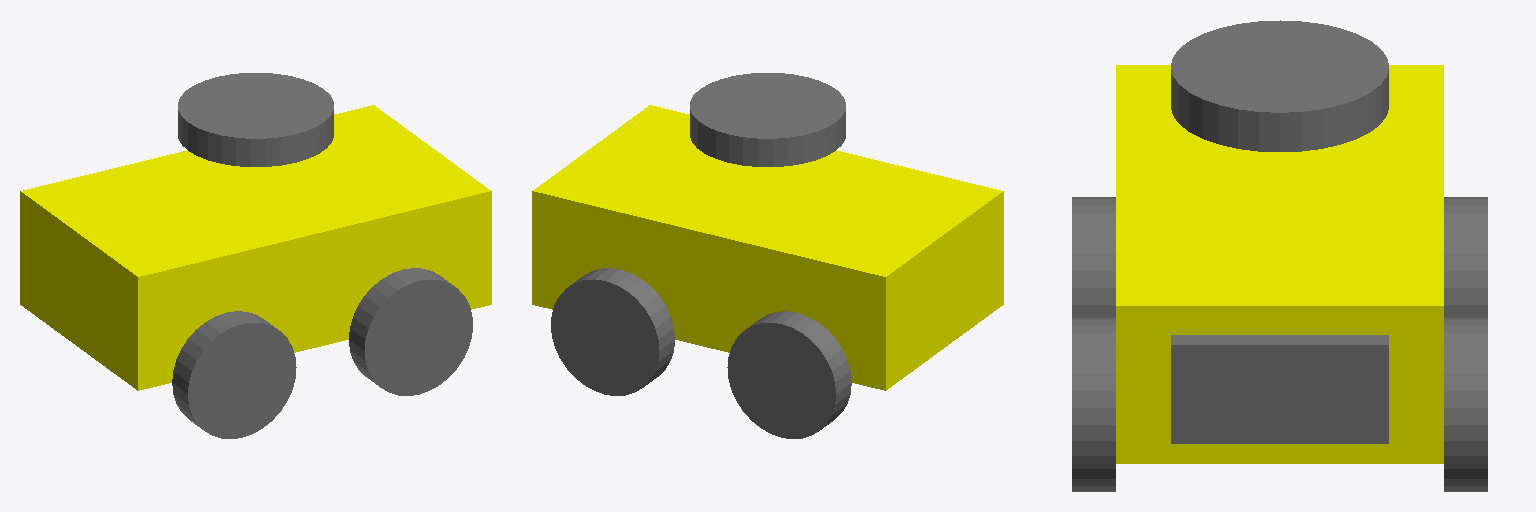
robot.urdf — my_robot:
<?xml version="1.0" ?>
<!-- =================================================================================== -->
<!-- |    This document was autogenerated by xacro from my_mecanum_robot.urdf.xacro    | -->
<!-- |    EDITING THIS FILE BY HAND IS NOT RECOMMENDED                                 | -->
<!-- =================================================================================== -->
<robot name="my_robot">
  <material name="blue">
    <color rgba="0 0 0.5 1"/>
  </material>
  <material name="grey">
    <color rgba="0.5 0.5 0.5 1"/>
  </material>
  <material name="orange">
    <color rgba="1.0 0.5 0 1"/>
  </material>
  <material name="yellow">
    <color rgba="1.0 1.0 0 1"/>
  </material>
  <link name="base_footprint"/>
  <!-- collision and inertia box close to floor for lateral movements -->
  <link name="base_link">
    <visual>
      <geometry>
        <box size="0.26 0.15 0.08"/>
      </geometry>
      <origin rpy="0 0 0" xyz="0 0 0.04"/>
      <material name="yellow"/>
    </visual>
    <collision>
      <geometry>
        <box size="0.26 0.15 0.08"/>
      </geometry>
      <origin rpy="0 0 0" xyz="0 0 0.0"/>
    </collision>
    <inertial>
      <origin rpy="0 0 0" xyz="0 0 0.0"/>
      <mass value="4.0"/>
      <inertia ixx="0.09866666666666668" ixy="0" ixz="0" iyy="0.12013333333333334" iyz="0" izz="0.03853333333333333"/>
    </inertial>
  </link>
  <link name="lower_right_wheel_link">
    <visual>
      <geometry>
        <cylinder length="0.02" radius="0.04"/>
        <!--<mesh filename="package://my_robot_description/meshes/left_tire.stl" scale="0.001 0.001 0.001"/>-->
      </geometry>
      <origin rpy="1.5707963267948966 0 0" xyz="0 0 0"/>
      <material name="grey"/>
    </visual>
    <collision>
      <geometry>
        <cylinder length="0.02" radius="0.04"/>
      </geometry>
      <origin rpy="1.5707963267948966 0 0" xyz="0 0 0"/>
    </collision>
    <inertial>
      <origin rpy="1.5707963267948966 0 0" xyz="0 0 0"/>
      <mass value="0.2"/>
      <inertia ixx="0.00034666666666666667" ixy="0" ixz="0" iyy="0.00034666666666666667" iyz="0" izz="0.00064"/>
    </inertial>
  </link>
  <link name="lower_left_wheel_link">
    <visual>
      <geometry>
        <cylinder length="0.02" radius="0.04"/>
        <!--<mesh filename="package://my_robot_description/meshes/left_tire.stl" scale="0.001 0.001 0.001"/>-->
      </geometry>
      <origin rpy="1.5707963267948966 0 0" xyz="0 0 0"/>
      <material name="grey"/>
    </visual>
    <collision>
      <geometry>
        <cylinder length="0.02" radius="0.04"/>
      </geometry>
      <origin rpy="1.5707963267948966 0 0" xyz="0 0 0"/>
    </collision>
    <inertial>
      <origin rpy="1.5707963267948966 0 0" xyz="0 0 0"/>
      <mass value="0.2"/>
      <inertia ixx="0.00034666666666666667" ixy="0" ixz="0" iyy="0.00034666666666666667" iyz="0" izz="0.00064"/>
    </inertial>
  </link>
  <link name="upper_right_wheel_link">
    <visual>
      <geometry>
        <cylinder length="0.02" radius="0.04"/>
        <!--<mesh filename="package://my_robot_description/meshes/left_tire.stl" scale="0.001 0.001 0.001"/>-->
      </geometry>
      <origin rpy="1.5707963267948966 0 0" xyz="0 0 0"/>
      <material name="grey"/>
    </visual>
    <collision>
      <geometry>
        <cylinder length="0.02" radius="0.04"/>
      </geometry>
      <origin rpy="1.5707963267948966 0 0" xyz="0 0 0"/>
    </collision>
    <inertial>
      <origin rpy="1.5707963267948966 0 0" xyz="0 0 0"/>
      <mass value="0.2"/>
      <inertia ixx="0.00034666666666666667" ixy="0" ixz="0" iyy="0.00034666666666666667" iyz="0" izz="0.00064"/>
    </inertial>
  </link>
  <link name="upper_left_wheel_link">
    <visual>
      <geometry>
        <cylinder length="0.02" radius="0.04"/>
        <!--<mesh filename="package://my_robot_description/meshes/left_tire.stl" scale="0.001 0.001 0.001"/>-->
      </geometry>
      <origin rpy="1.5707963267948966 0 0" xyz="0 0 0"/>
      <material name="grey"/>
    </visual>
    <collision>
      <geometry>
        <cylinder length="0.02" radius="0.04"/>
      </geometry>
      <origin rpy="1.5707963267948966 0 0" xyz="0 0 0"/>
    </collision>
    <inertial>
      <origin rpy="1.5707963267948966 0 0" xyz="0 0 0"/>
      <mass value="0.2"/>
      <inertia ixx="0.00034666666666666667" ixy="0" ixz="0" iyy="0.00034666666666666667" iyz="0" izz="0.00064"/>
    </inertial>
  </link>
  <joint name="base_joint" type="fixed">
    <parent link="base_footprint"/>
    <child link="base_link"/>
    <origin rpy="0 0 0" xyz="0 0 0.04"/>
  </joint>
  <joint name="lower_right_wheel_joint" type="continuous">
    <parent link="base_link"/>
    <child link="lower_right_wheel_link"/>
    <origin rpy="0 0 0" xyz="-0.065 -0.08499999999999999 0"/>
    <axis xyz="0 1 0"/>
  </joint>
  <joint name="lower_left_wheel_joint" type="continuous">
    <parent link="base_link"/>
    <child link="lower_left_wheel_link"/>
    <origin rpy="0 0 0" xyz="-0.065 0.08499999999999999 0"/>
    <axis xyz="0 1 0"/>
  </joint>
  <joint name="upper_right_wheel_joint" type="continuous">
    <parent link="base_link"/>
    <child link="upper_right_wheel_link"/>
    <origin rpy="0 0 0" xyz="0.065 -0.08499999999999999 0"/>
    <axis xyz="0 1 0"/>
  </joint>
  <joint name="upper_left_wheel_joint" type="continuous">
    <parent link="base_link"/>
    <child link="upper_left_wheel_link"/>
    <origin rpy="0 0 0" xyz="0.065 0.08499999999999999 0"/>
    <axis xyz="0 1 0"/>
  </joint>
  <!-- low friction with base and high friction with wheels -->
  <gazebo reference="base_link">
    <material>Gazebo/Yellow</material>
    <mu1>0.005</mu1>
    <mu2>0.005</mu2>
  </gazebo>
  <gazebo reference="lower_right_wheel_link">
    <material>Gazebo/Grey</material>
    <mu1>0.4</mu1>
    <mu2>0.2</mu2>
    <!--<kp>1000</kp>
        <ki>100</ki>
        <kd>1</kd>
        <minDepth>0.001</minDepth>
        <maxVel>0.5</maxVel>
        <fdir1>1 0 0</fdir1>-->
  </gazebo>
  <gazebo reference="lower_left_wheel_link">
    <material>Gazebo/Grey</material>
    <mu1>0.4</mu1>
    <mu2>0.2</mu2>
    <!--<kp>1000</kp>
        <ki>100</ki>
        <kd>1</kd>
        <minDepth>0.001</minDepth>
        <maxVel>0.5</maxVel>
        <fdir1>1 0 0</fdir1>-->
  </gazebo>
  <gazebo reference="upper_right_wheel_link">
    <material>Gazebo/Grey</material>
    <mu1>0.4</mu1>
    <mu2>0.2</mu2>
    <!--<kp>1000</kp>
        <ki>100</ki>
        <kd>1</kd>
        <minDepth>0.001</minDepth>
        <maxVel>0.5</maxVel>
        <fdir1>1 0 0</fdir1>-->
  </gazebo>
  <gazebo reference="upper_left_wheel_link">
    <material>Gazebo/Grey</material>
    <mu1>0.4</mu1>
    <mu2>0.2</mu2>
    <!--<kp>1000</kp>
        <ki>100</ki>
        <kd>1</kd>
        <minDepth>0.001</minDepth>
        <maxVel>0.5</maxVel>
        <fdir1>1 0 0</fdir1>-->
  </gazebo>
  <gazebo>
    <plugin filename="libgazebo_ros_planar_move.so" name="mecanum_controller">
      <command_topic>cmd_vel</command_topic>
      <odometry_topic>odom</odometry_topic>
      <odometry_frame>odom</odometry_frame>
      <odometry_rate>20.0</odometry_rate>
      <robot_base_frame>base_footprint</robot_base_frame>
      <publish_odom>true</publish_odom>
      <publish_odom_tf>true</publish_odom_tf>
      <wheel_radius>0.04</wheel_radius>
      <base_length>0.65</base_length>
      <base_width>0.65</base_width>
      <publish_wheel_tf>true</publish_wheel_tf>
      <front_left_joint>upper_left_wheel_joint</front_left_joint>
      <front_right_joint>upper_right_wheel_joint</front_right_joint>
      <rear_left_joint>lower_left_wheel_joint</rear_left_joint>
      <rear_right_joint>lower_right_wheel_joint</rear_right_joint>
      <wheel_max_speed> 20.0 </wheel_max_speed>
      <wheel_acceleration> 10.0</wheel_acceleration>
      <joint_config>1 1 1 1</joint_config>
    </plugin>
  </gazebo>
  <link name="camera_link">
    <visual>
      <geometry>
        <box size="0.01 0.1 0.05"/>
      </geometry>
      <material name="grey"/>
    </visual>
    <collision>
      <geometry>
        <box size="0.01 0.1 0.05"/>
      </geometry>
    </collision>
    <inertial>
      <origin rpy="0 0 0" xyz="0 0 0"/>
      <mass value="0.1"/>
      <inertia ixx="2.166666666666667e-05" ixy="0" ixz="0" iyy="8.416666666666668e-05" iyz="0" izz="0.00010416666666666669"/>
    </inertial>
  </link>
  <joint name="base_camera_joint" type="fixed">
    <parent link="base_link"/>
    <child link="camera_link"/>
    <origin rpy="0 0 0" xyz="0.135 0 0.04"/>
  </joint>
  <link name="camera_link_optical">
    </link>
  <joint name="camera_optical_joint" type="fixed">
    <!-- these values have to be these values otherwise the gazebo camera
            image won't be aligned properly with the frame it is supposedly
            originating from -->
    <origin rpy="-1.5707963267948966 0 -1.5707963267948966" xyz="0 0 0"/>
    <parent link="camera_link"/>
    <child link="camera_link_optical"/>
  </joint>
  <gazebo reference="camera_link">
    <material>Gazebo/Red</material>
    <sensor name="camera_sensor" type="camera">
      <pose>0 0 0 0 0 0</pose>
      <visualize>false</visualize>
      <update_rate>10.0</update_rate>
      <plugin filename="libgazebo_ros_camera.so" name="camera_controller">
        <frame_name>camera_link_optical</frame_name>
      </plugin>
    </sensor>
  </gazebo>
  <link name="base_scan">
    <visual>
      <geometry>
        <cylinder length="0.02" radius="0.05"/>
      </geometry>
      <material name="grey"/>
    </visual>
    <collision>
      <geometry>
        <cylinder length="0.02" radius="0.05"/>
      </geometry>
    </collision>
    <inertial>
      <origin rpy="0 0 0" xyz="0 0 0"/>
      <mass value="0.1"/>
      <inertia ixx="0.00026333333333333336" ixy="0" ixz="0" iyy="0.00026333333333333336" iyz="0" izz="0.0005000000000000001"/>
    </inertial>
  </link>
  <joint name="base_scan_joint" type="fixed">
    <parent link="base_link"/>
    <child link="base_scan"/>
    <origin rpy="0 0 3.14" xyz="0 0 0.13"/>
  </joint>
  <gazebo reference="base_scan">
    <sensor name="lidar" type="ray">
      <pose>0.215 0 0.215 0 0 0</pose>
      <always_on>true</always_on>
      <visualize>false</visualize>
      <update_rate>5</update_rate>
      <ray>
        <scan>
          <horizontal>
            <samples>720</samples>
            <resolution>1.00000</resolution>
            <min_angle>0.000000</min_angle>
            <max_angle>6.280000</max_angle>
          </horizontal>
        </scan>
        <range>
          <min>0.120000</min>
          <max>3.5</max>
          <resolution>0.015000</resolution>
        </range>
        <noise>
          <type>gaussian</type>
          <mean>0.0</mean>
          <stddev>0.01</stddev>
        </noise>
      </ray>
      <plugin filename="libgazebo_ros_ray_sensor.so" name="scan">
        <ros>
          <remapping>~/out:=scan</remapping>
        </ros>
        <output_type>sensor_msgs/LaserScan</output_type>
        <frame_name>base_scan</frame_name>
      </plugin>
    </sensor>
  </gazebo>
</robot>

--- Render facts (derived) ---
3 views of the same robot in one strip: view 1: azimuth 30°, elevation 25°; view 2: azimuth 150°, elevation 25°; view 3: azimuth 270°, elevation 25° (orthographic).
Robot: my_robot — 9 links, 8 joints (4 continuous, 4 fixed); root link base_footprint; default pose: every joint at zero.
Links seen in each view (by area): view 1: base_link, base_scan, upper_right_wheel_link, lower_right_wheel_link; view 2: base_link, base_scan, upper_left_wheel_link, lower_left_wheel_link; view 3: base_link, base_scan, camera_link, upper_right_wheel_link, upper_left_wheel_link, lower_right_wheel_link, lower_left_wheel_link.
Link boxes in pixels (left/top/right/bottom): base_link: left=20, top=105, right=491, bottom=390; base_scan: left=178, top=73, right=333, bottom=166; upper_right_wheel_link: left=349, top=268, right=472, bottom=395; lower_right_wheel_link: left=172, top=311, right=296, bottom=438; base_link: left=532, top=105, right=1003, bottom=390; base_scan: left=690, top=73, right=845, bottom=166; upper_left_wheel_link: left=551, top=268, right=674, bottom=395; lower_left_wheel_link: left=727, top=311, right=851, bottom=438; base_link: left=1116, top=65, right=1443, bottom=463; base_scan: left=1171, top=20, right=1388, bottom=151; camera_link: left=1171, top=335, right=1388, bottom=443; upper_right_wheel_link: left=1072, top=317, right=1115, bottom=491; upper_left_wheel_link: left=1444, top=317, right=1487, bottom=491; lower_right_wheel_link: left=1072, top=197, right=1115, bottom=316; lower_left_wheel_link: left=1444, top=197, right=1487, bottom=316.
Size in the robot's own frame: 0.27 by 0.19 by 0.18 metres.
Geometry: primitives only (box / cylinder / sphere), no mesh files.
